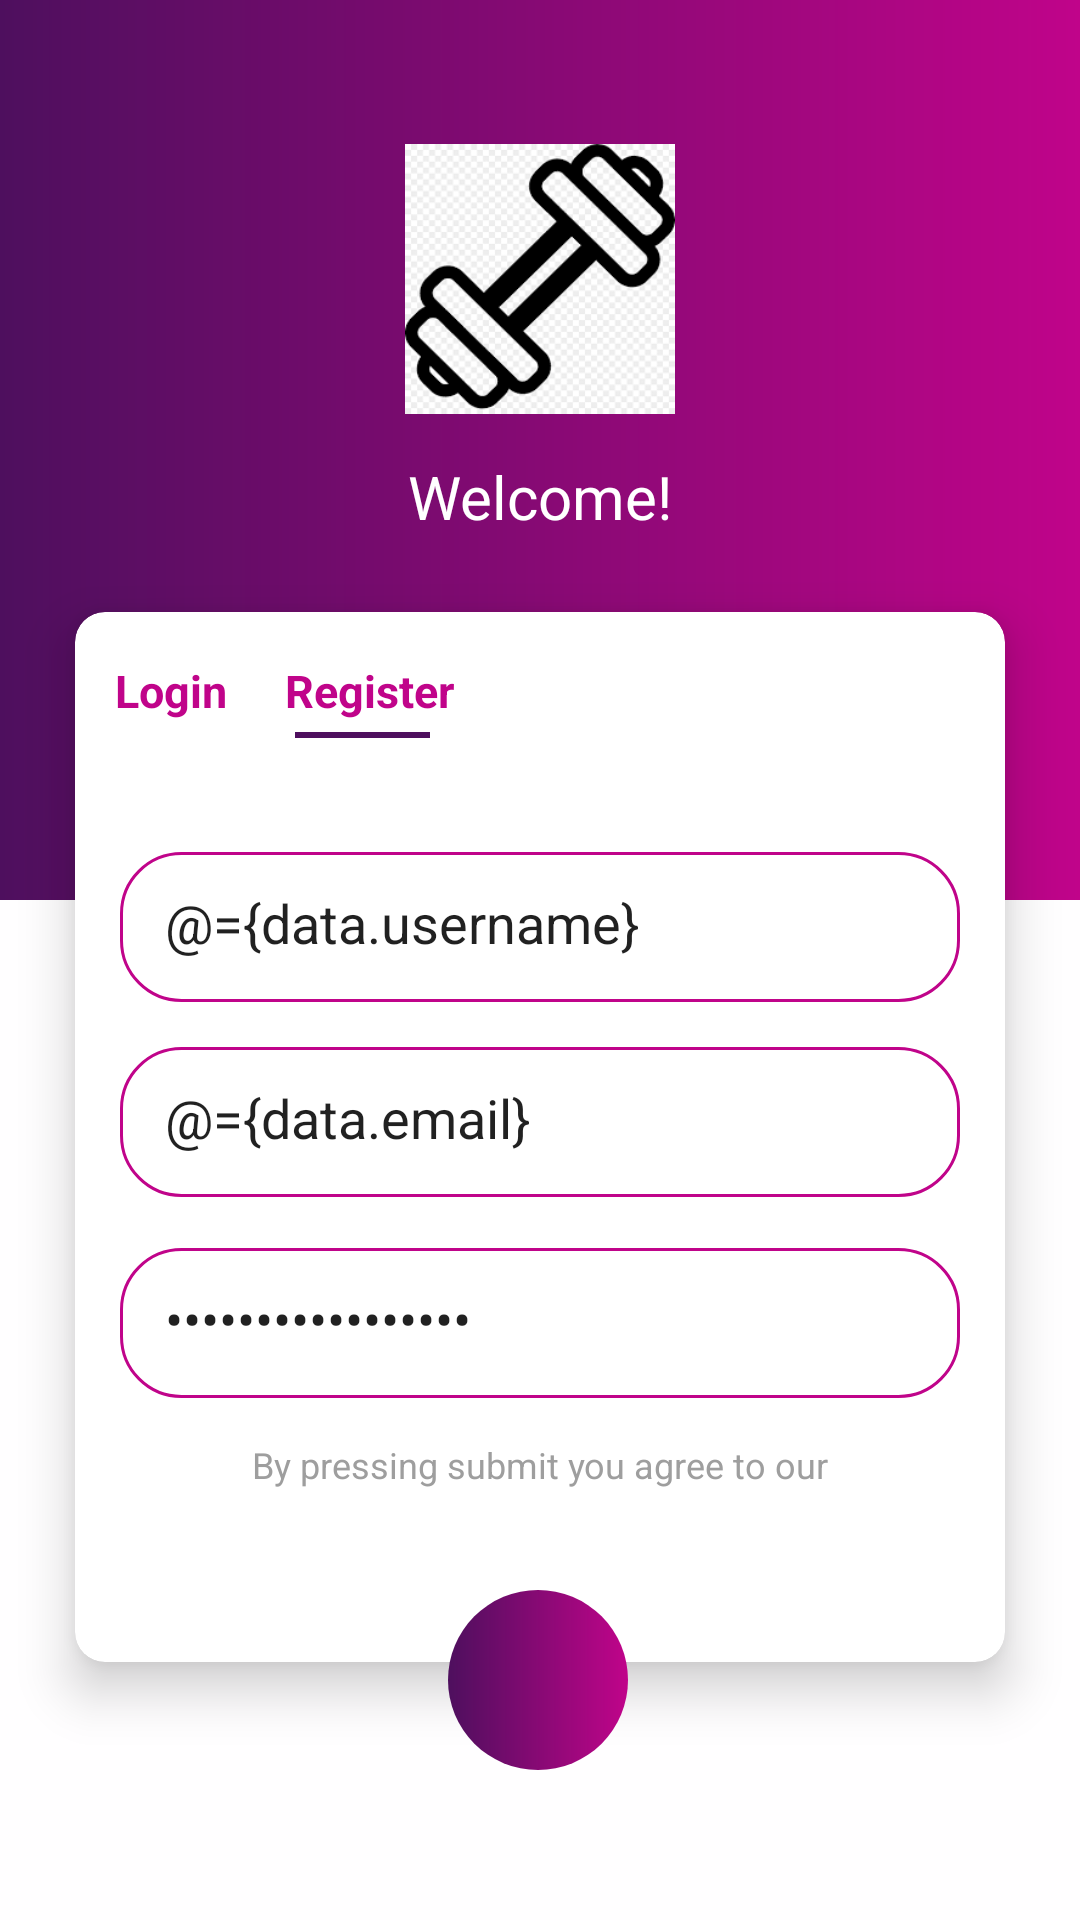

Icon bounding boxes for this 1080×1920 phone screenshot, format (x1, y1, x2, y2):
fitness: (405, 144, 675, 414)
